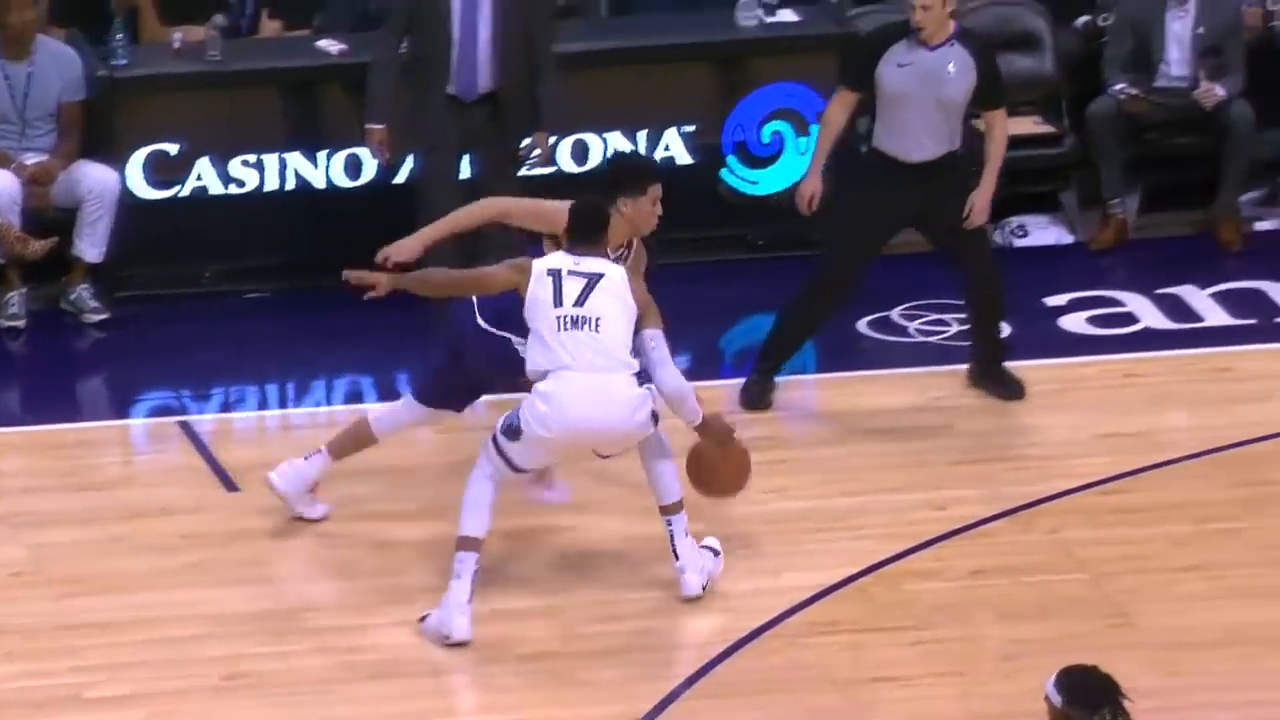ball: (687, 438, 757, 502)
